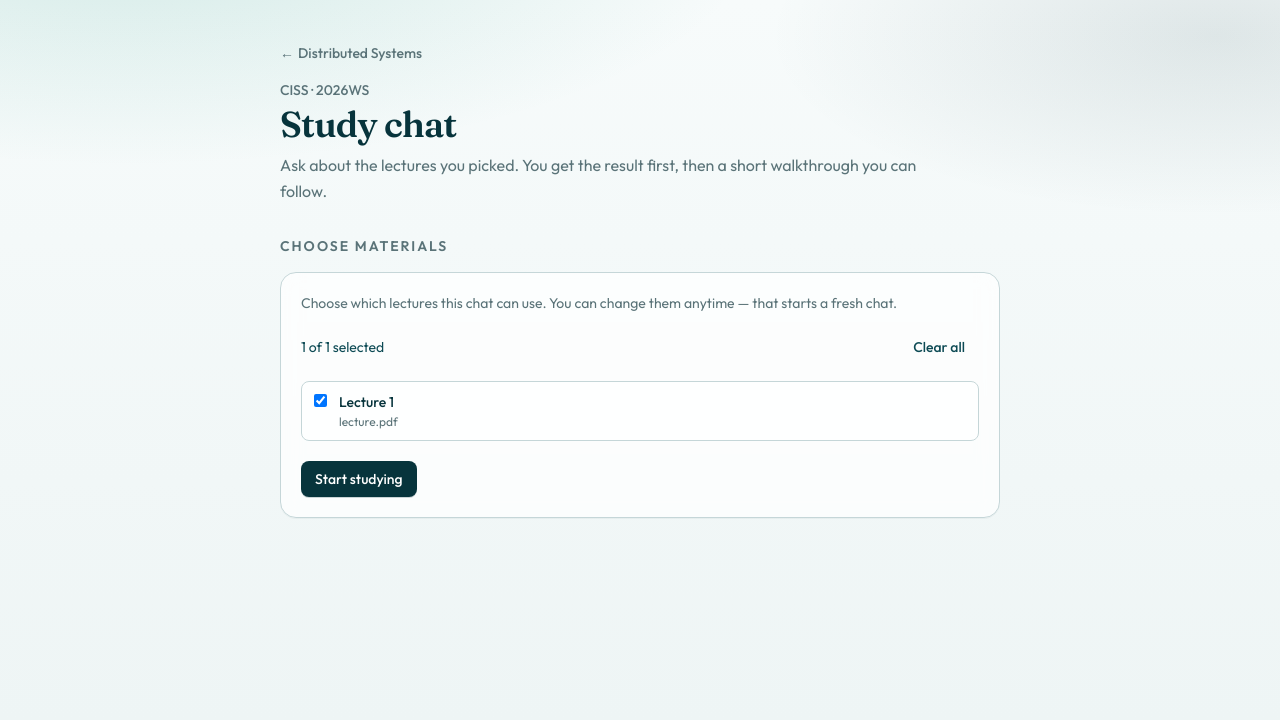
Test: course study chat page › starts a chat, asks a question, and shows a grounded tutor reply
The image size is (1280, 720).
Check: the heading "Study chat" is shown, box [280,102,456,146]
Click the button "Start studying" at x=359, y=479, box [301,461,417,497]
(page scrolled)
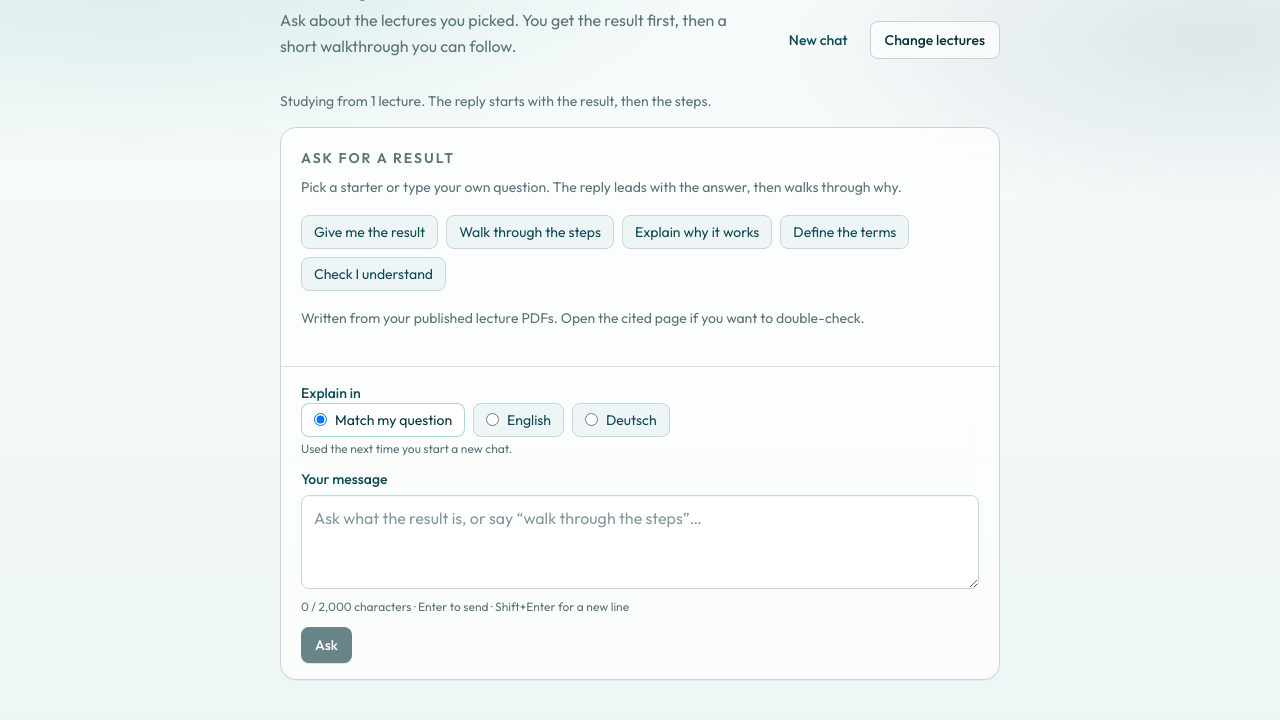
Check: the text "Studying from 1 lecture" is shown, box [280,92,712,110]
Type "What is consensus?" into the text box labelled "Your message" at x=640, y=542, box [301,494,979,588]
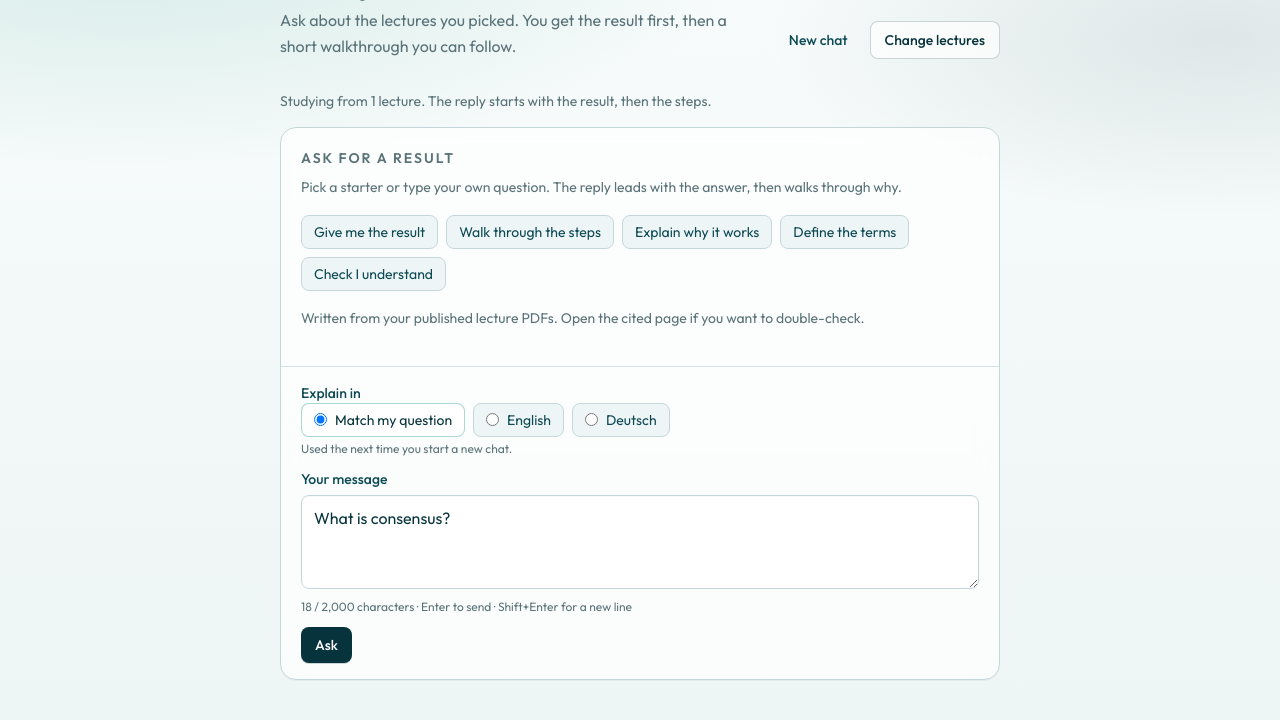
Click the button "Ask" at x=326, y=644, box [301,626,352,662]
(page scrolled)
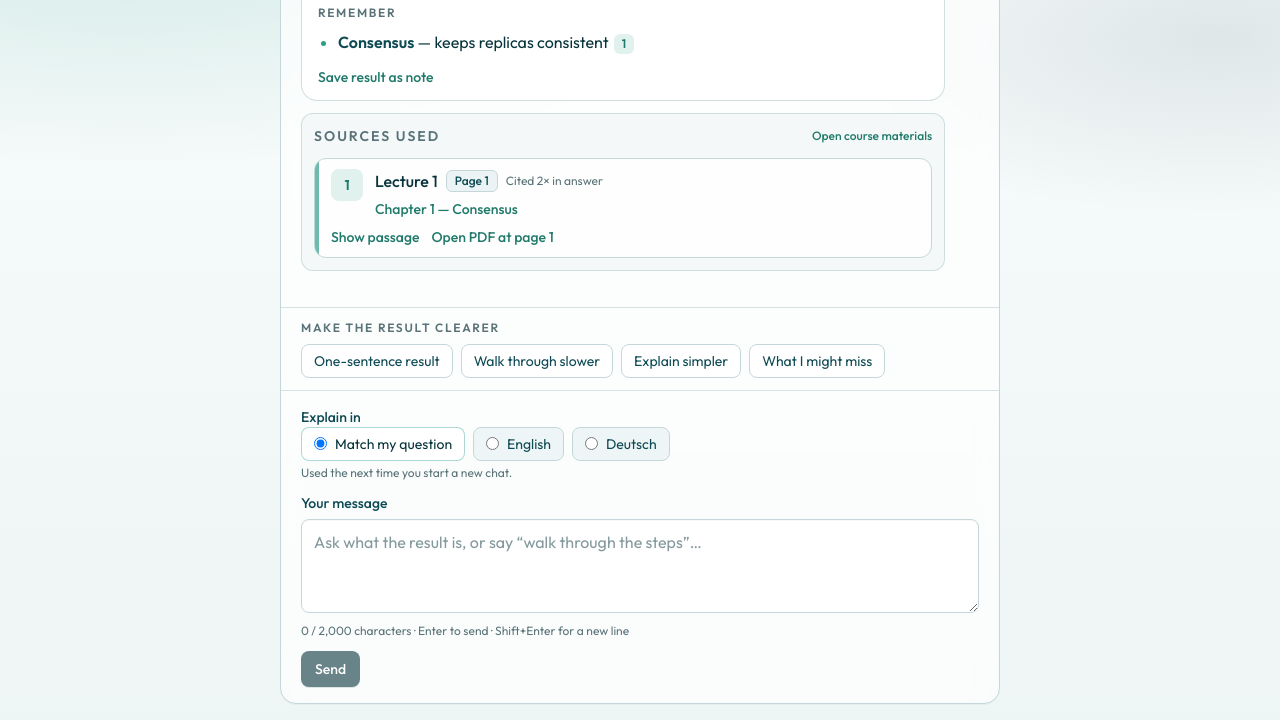
Check: the text box "What is consensus?" is shown, box [301,519,979,613]
Check: the heading "Remember" is shown, box [318,5,396,20]
Check: the heading "Sources used" is shown, box [314,126,440,146]
